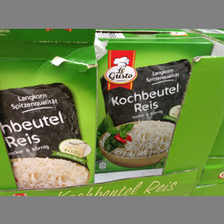rice: (97, 32, 214, 172), (1, 43, 93, 189)
